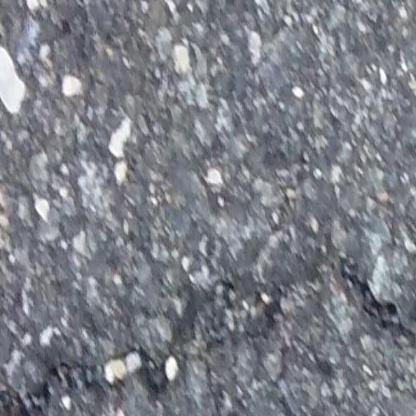Cracks: (0, 251, 416, 416)
